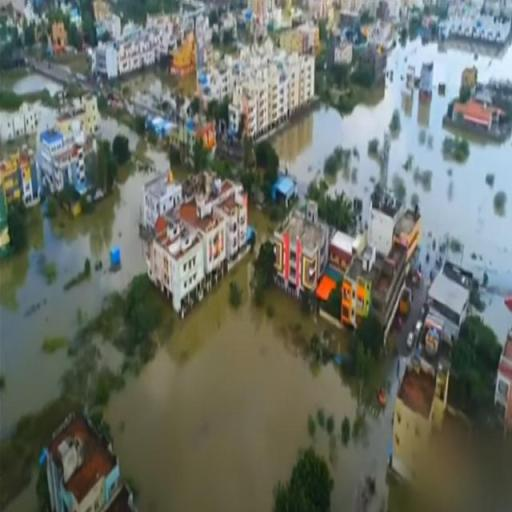flood: (108, 263, 512, 512), (275, 44, 512, 343), (0, 120, 169, 440), (125, 68, 196, 111), (0, 101, 57, 142), (387, 42, 419, 108), (0, 68, 63, 96), (1, 469, 38, 512)
house: (188, 18, 323, 152), (142, 169, 256, 319), (44, 411, 127, 512), (269, 195, 333, 297), (93, 8, 178, 82), (396, 358, 450, 452), (421, 264, 472, 358), (36, 128, 86, 208), (441, 2, 512, 51), (160, 108, 219, 164), (367, 186, 404, 262), (452, 89, 509, 138), (0, 147, 34, 208), (493, 324, 512, 428), (342, 265, 372, 330), (2, 95, 40, 145), (394, 206, 423, 255), (330, 229, 356, 273), (273, 172, 298, 210), (419, 60, 434, 98)
